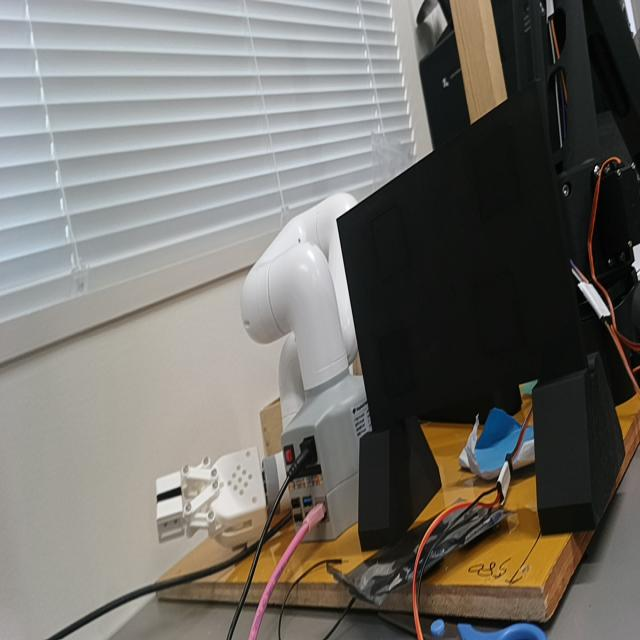Wall: (337, 80, 584, 431)
